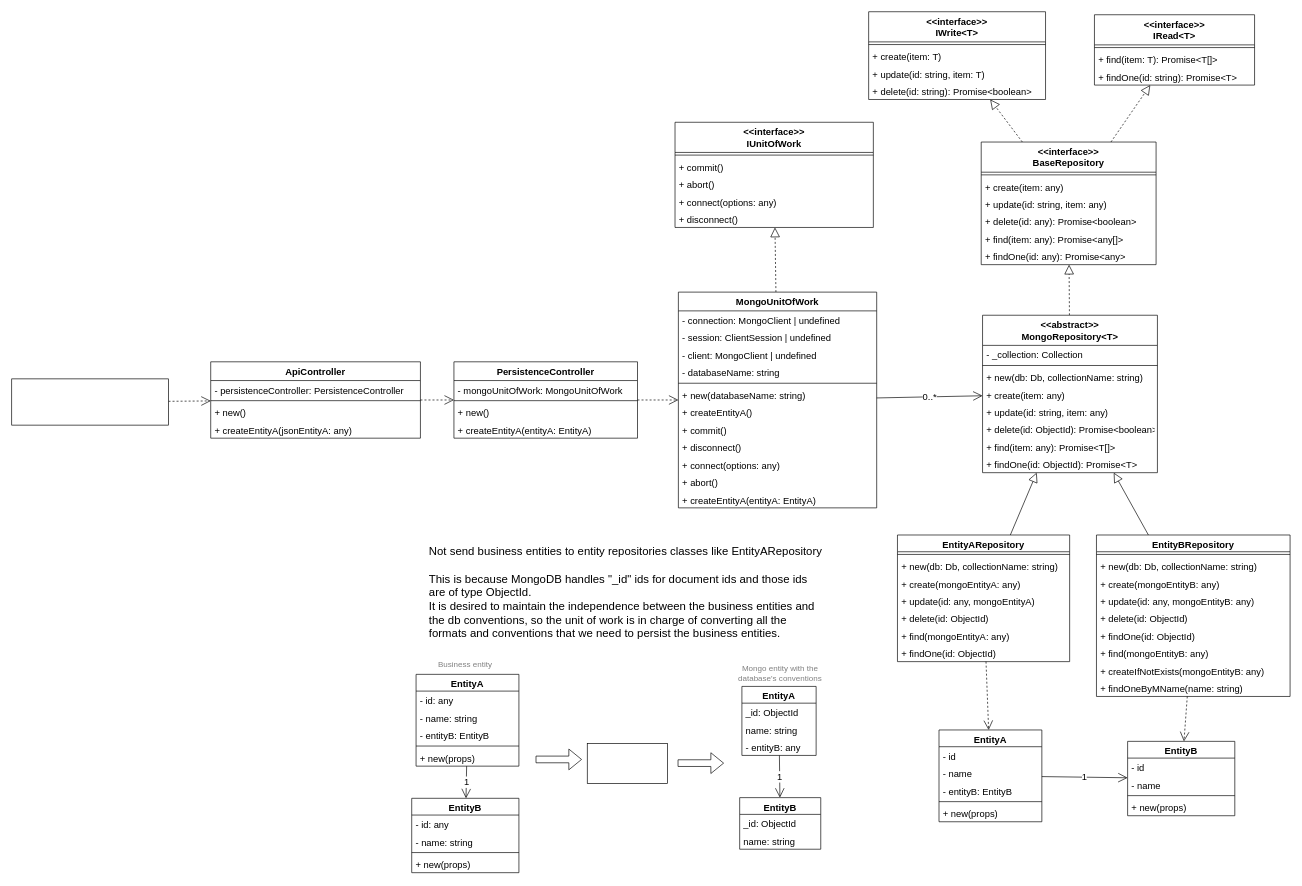
Some shapes in this 1302 by 886 pixel diagram are drawn without their labels. Each missing label, with the centre of its shape:
endpoints: pixel 90 401
Unit of Work: pixel 627 763
